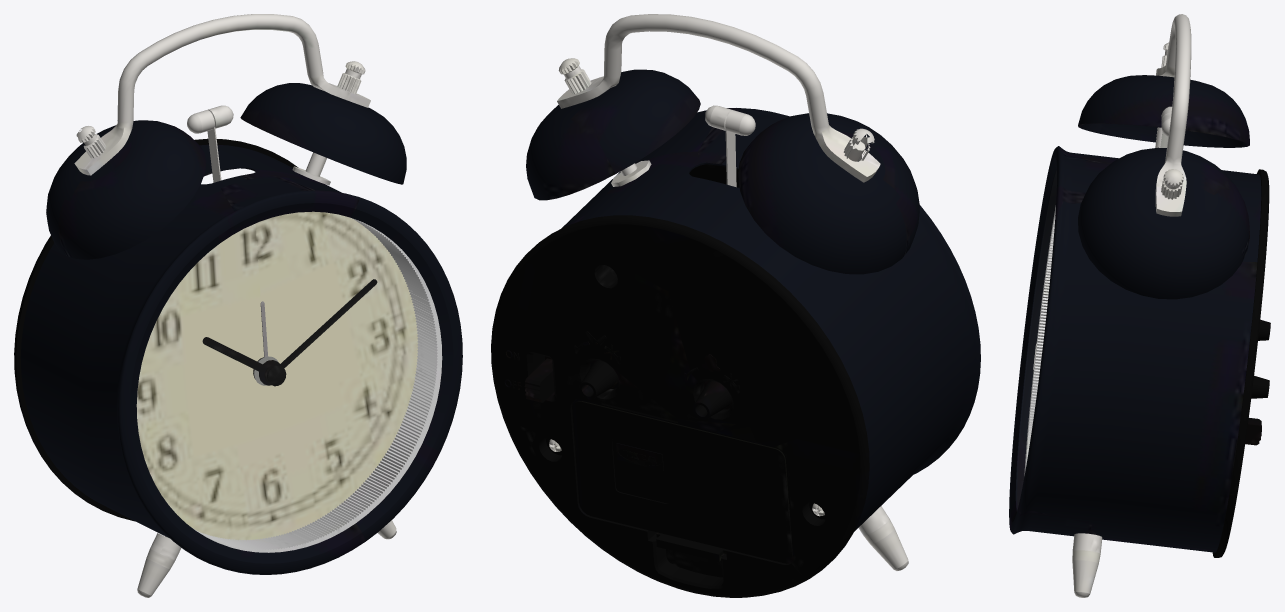
File: ikea_30540479_official.glb
3 views of the same model, side by side, from view 1: azimuth 30°, elevation 25°; view 2: azimuth 150°, elevation 25°; view 3: azimuth 270°, elevation 25° (orthographic). The views are drawn at different scales.
Parts seen in each view (by area): view 1: Mesh_0; view 2: Mesh_0; view 3: Mesh_0.
Part boxes in pixels (box(x1,y1,x2,y2)): Mesh_0: box(14, 14, 462, 597); Mesh_0: box(491, 14, 980, 597); Mesh_0: box(1009, 14, 1270, 597).
Size of the model in its own units: 0.097 by 0.1376 by 0.0649.
Materials: 2 (2 with a texture image).
